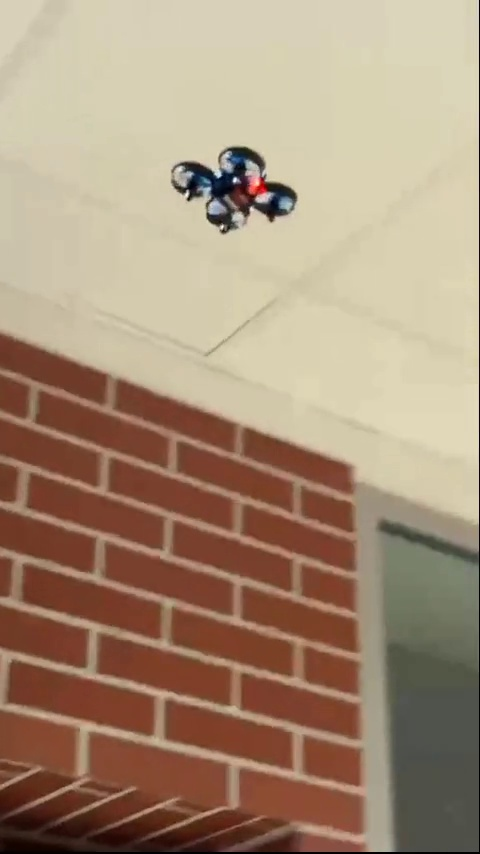drone: (165, 147, 298, 235)
